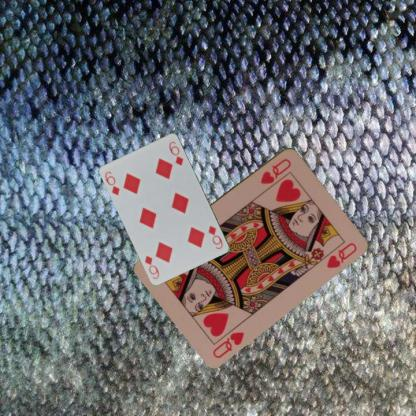6d: (206, 223, 224, 251), (103, 169, 121, 197)
Qh: (210, 328, 245, 360), (257, 155, 292, 185)
